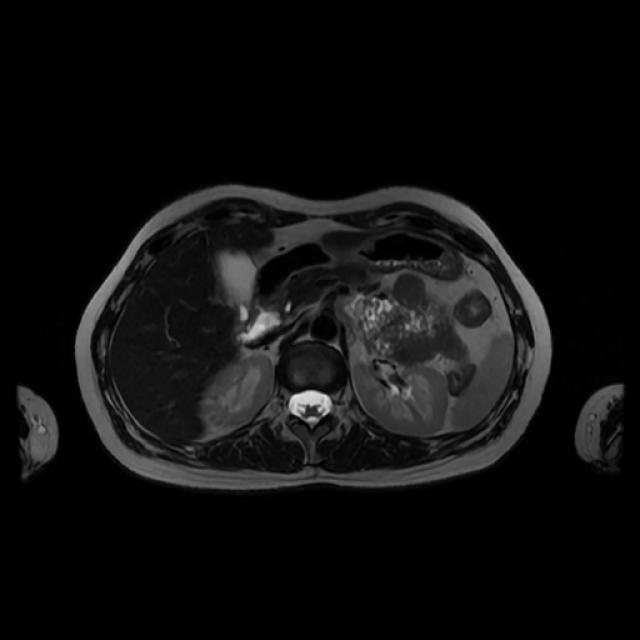sag: (205, 355, 273, 425)
sol: (357, 363, 448, 432)
